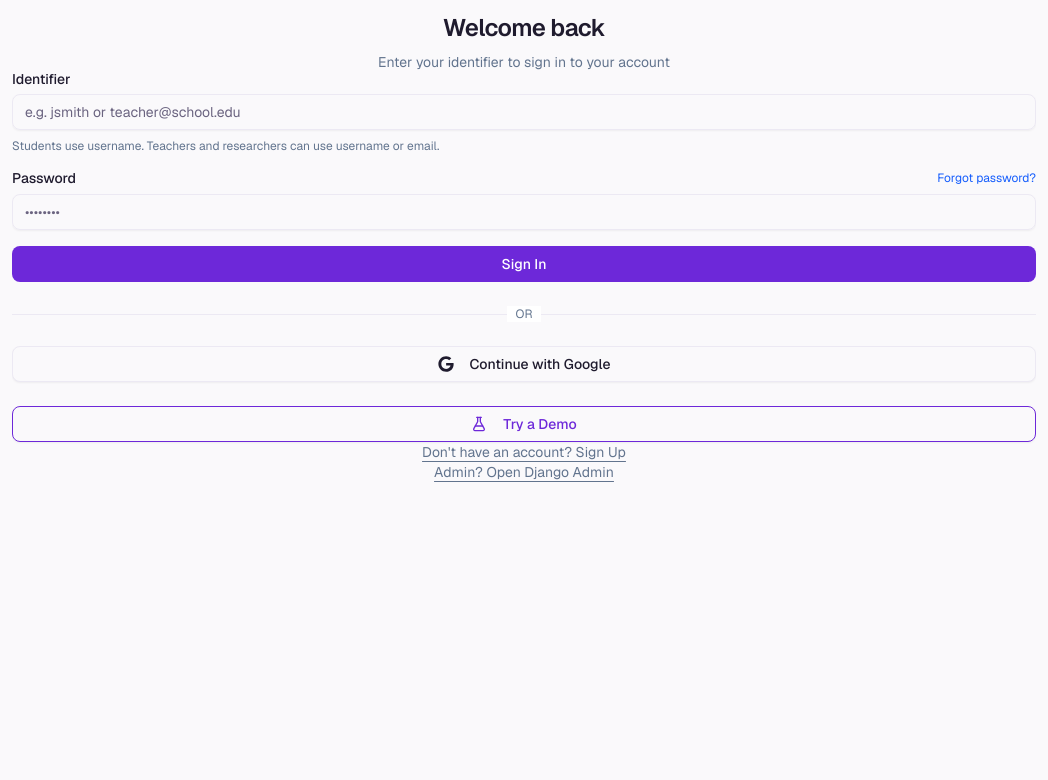
Test case: Login page › blocks ADMIN role login, removes cookie and shows admin guidance
This screenshot has width=1048, height=780.
Type "admin" into the field labelled "Identifier" at [524, 112], box top-left (12, 94), bottom-right (1036, 130)
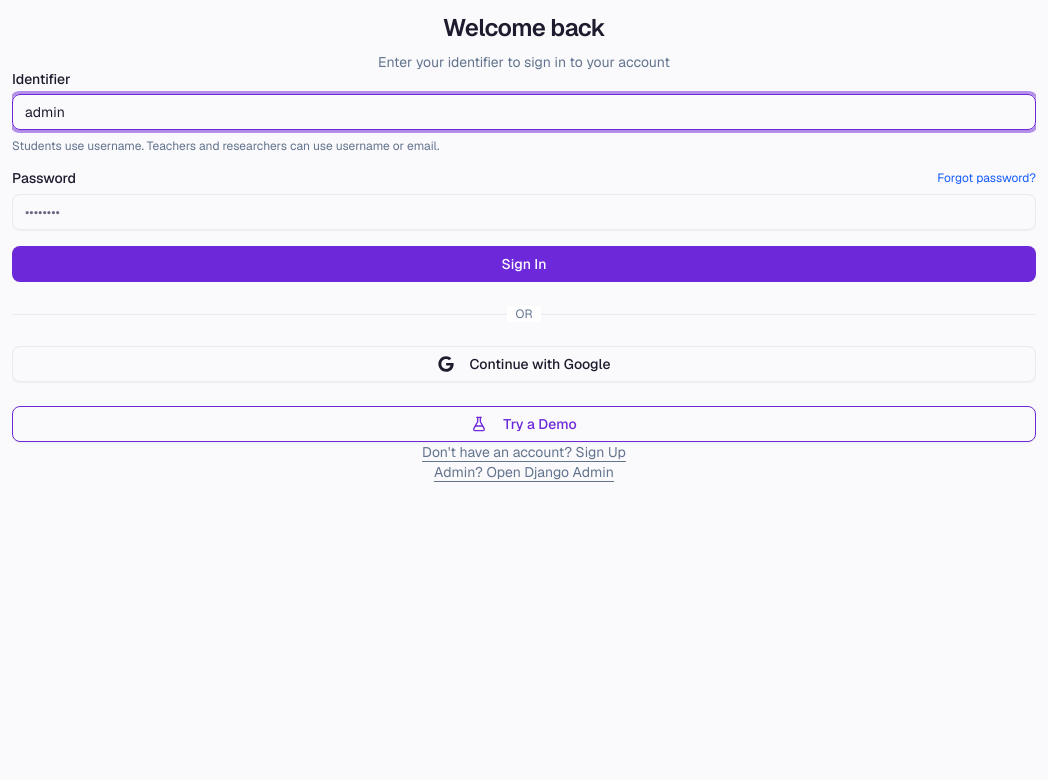
Type "admin-pass" into the password field labelled "Password" at [524, 212], box top-left (12, 194), bottom-right (1036, 230)
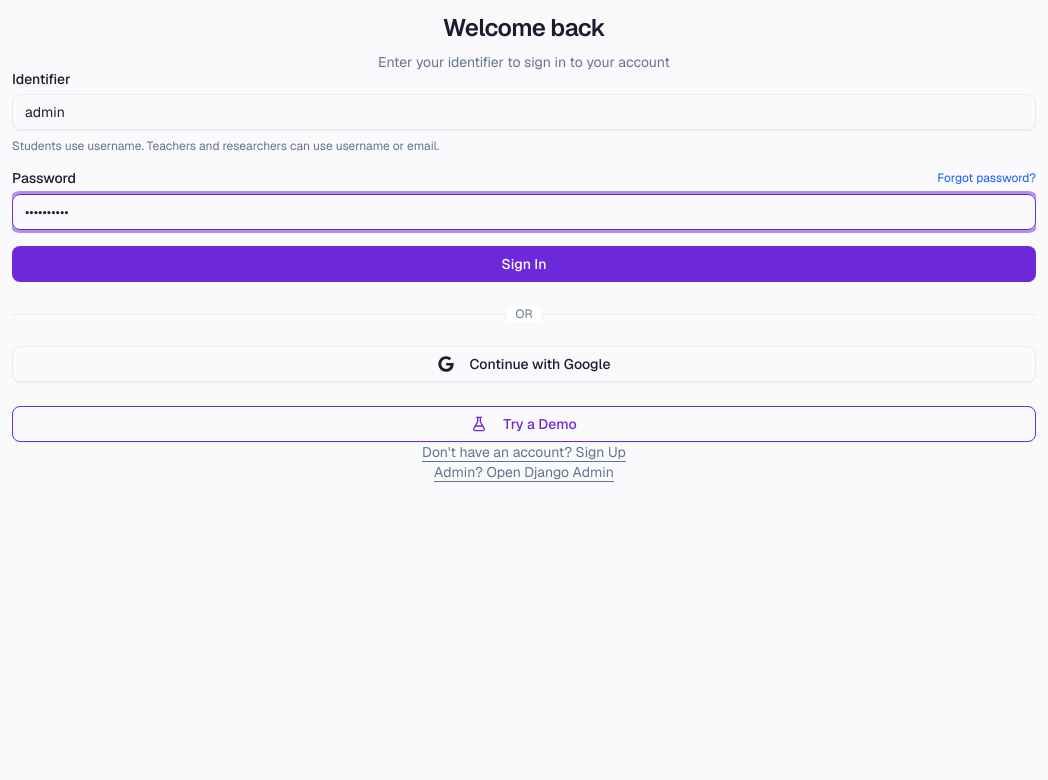
Click the button "Sign In" at [524, 264], box top-left (12, 246), bottom-right (1036, 282)
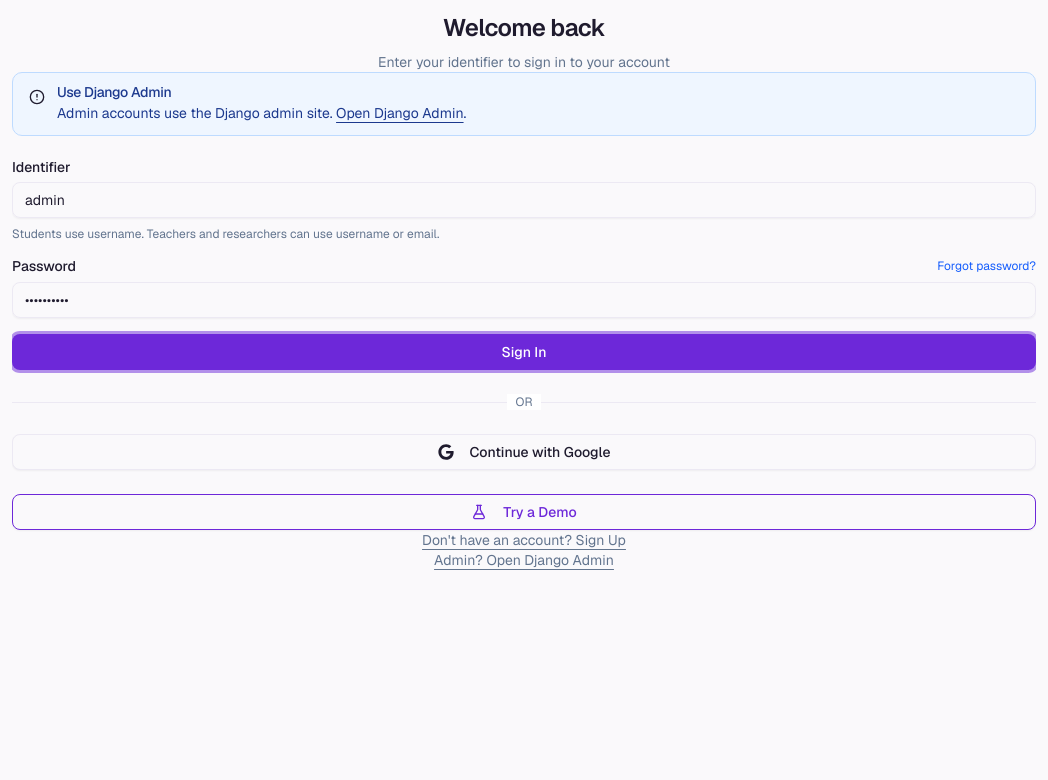
Result: the heading "Use Django Admin" is shown at top-left (57, 83), bottom-right (171, 101)
